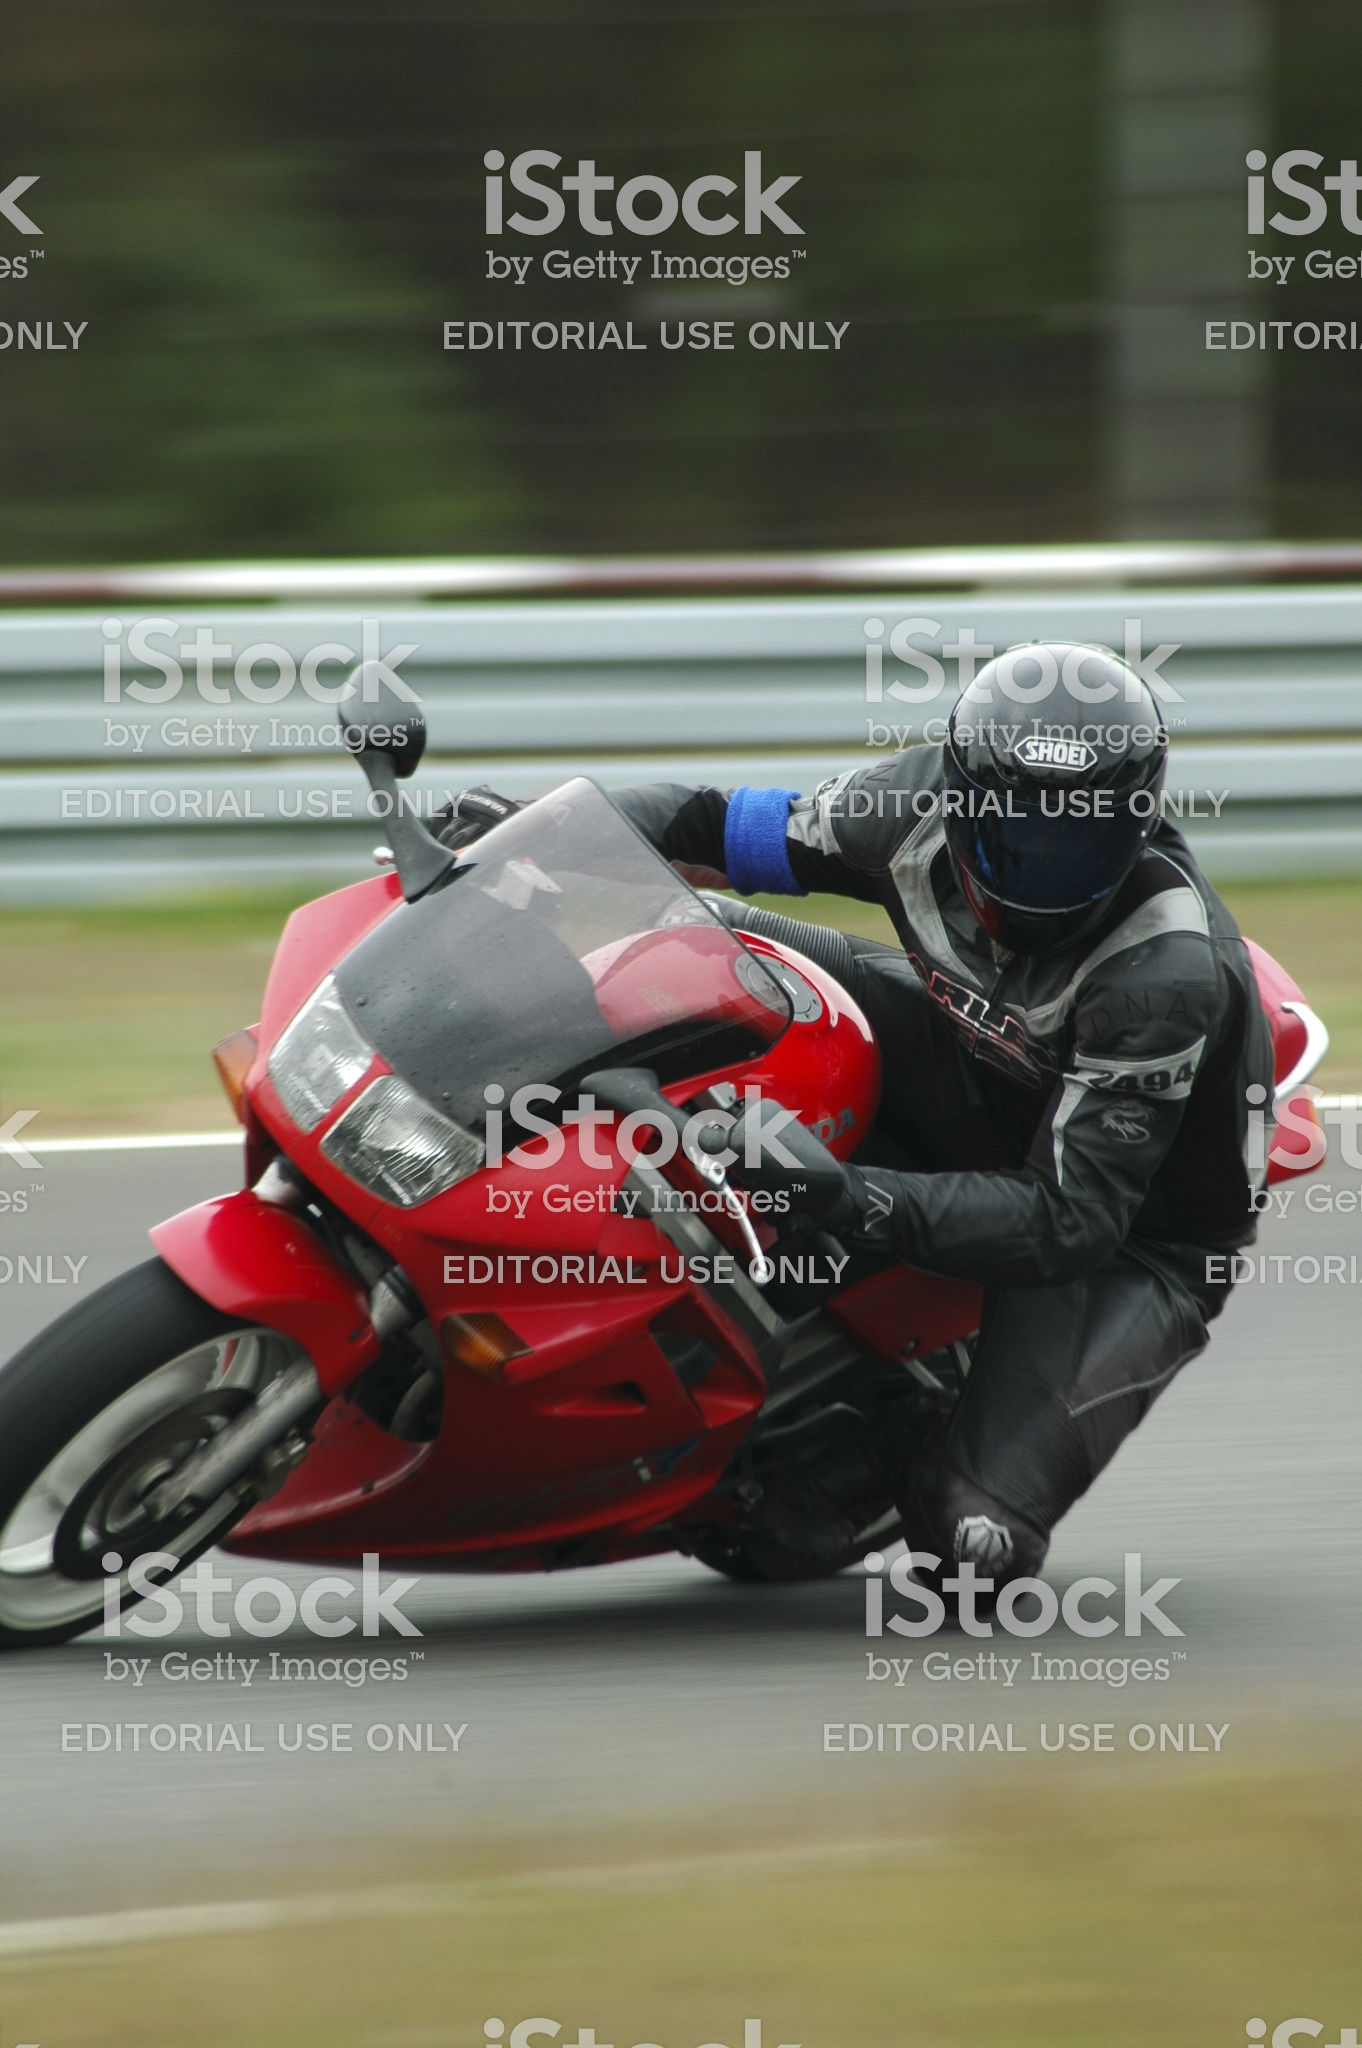helmet: (915, 644, 1221, 887)
